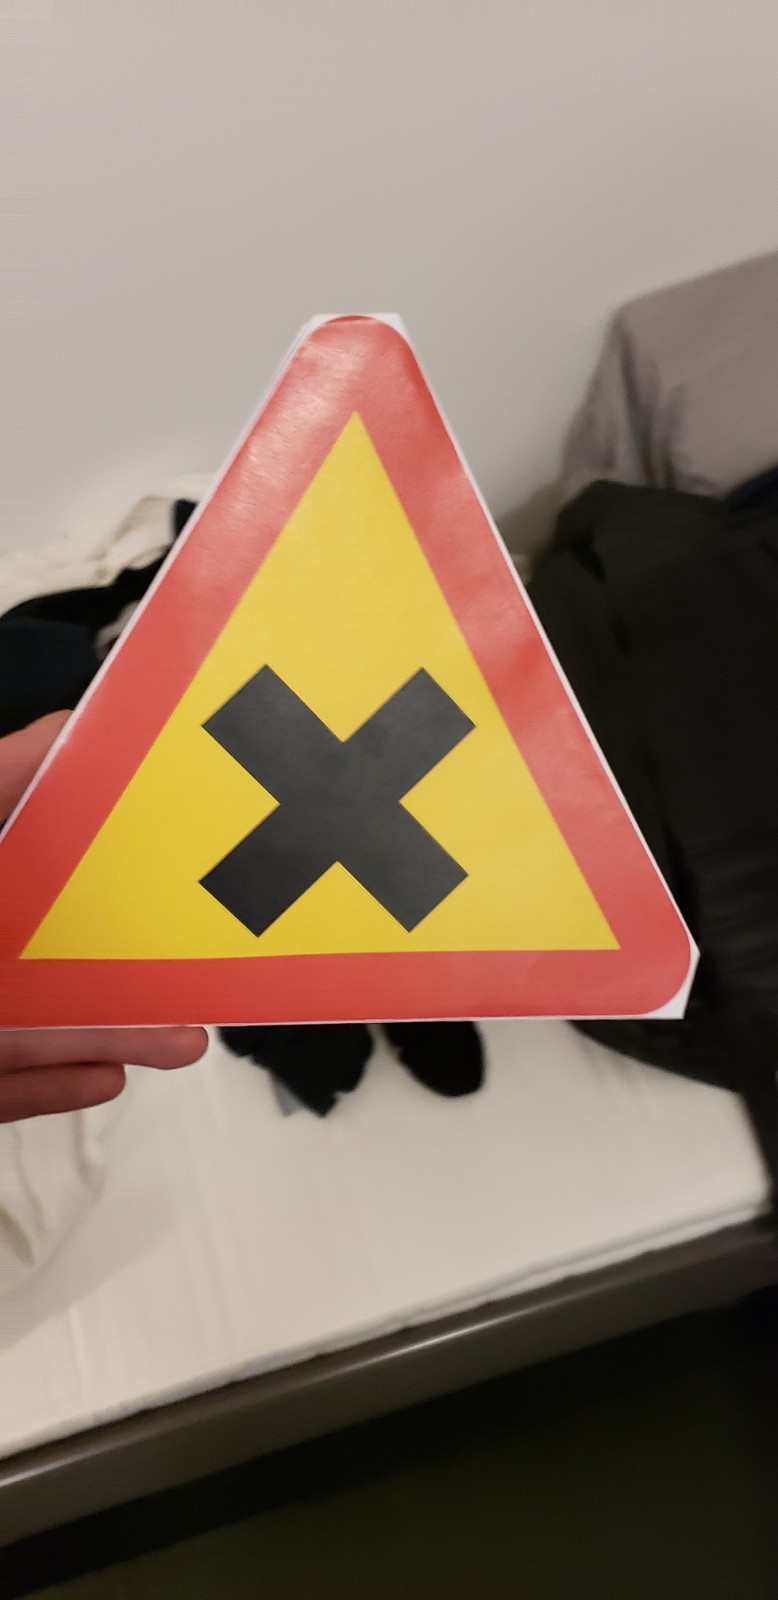junction: (1, 294, 650, 1065)
